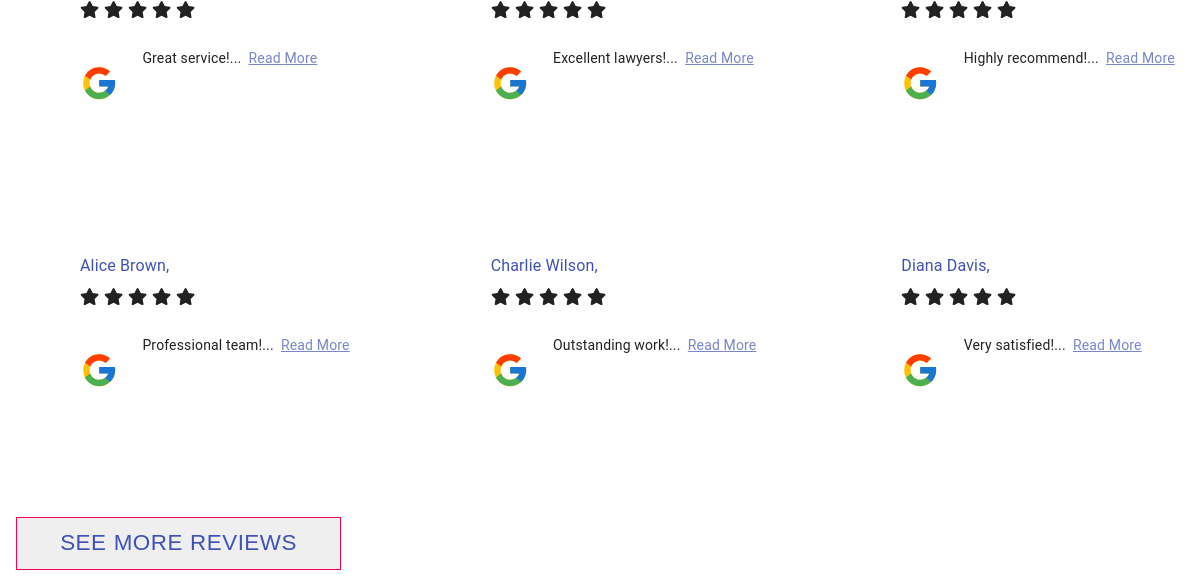
Test: ReviewsSection Component › collapses reviews when 'See Less' is clicked
(page scrolled)
Note: Expand first
Click the button "See More Reviews" at {"x": 179, "y": 544}, box 16,517 -> 341,570
(page scrolled)
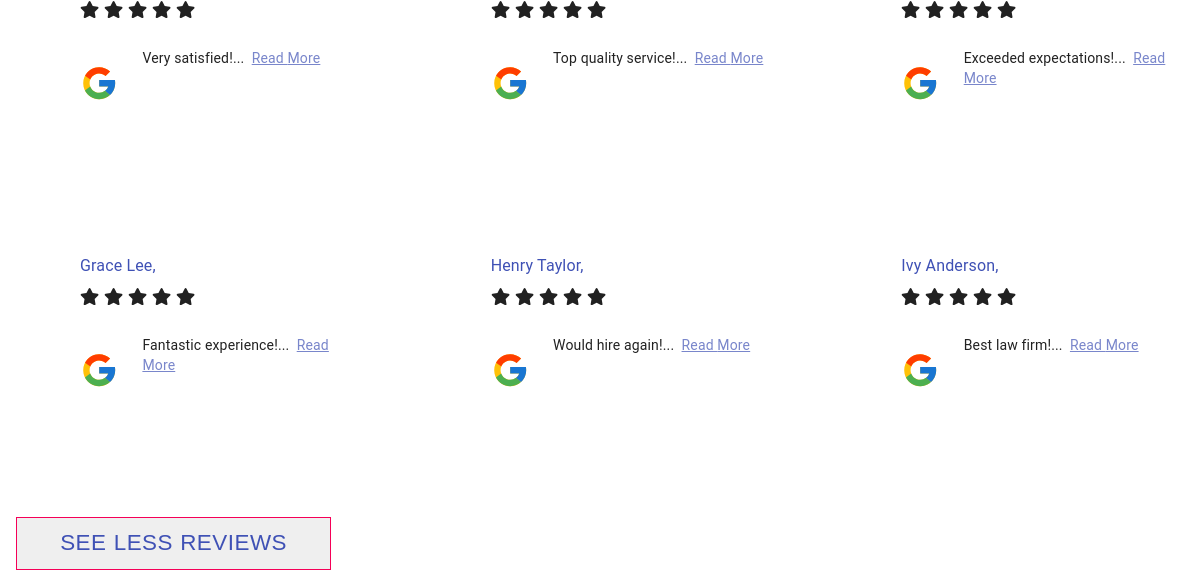
Note: Then collapse
Click the button "See Less Reviews" at {"x": 174, "y": 543}, box 16,517 -> 331,570
(page scrolled)
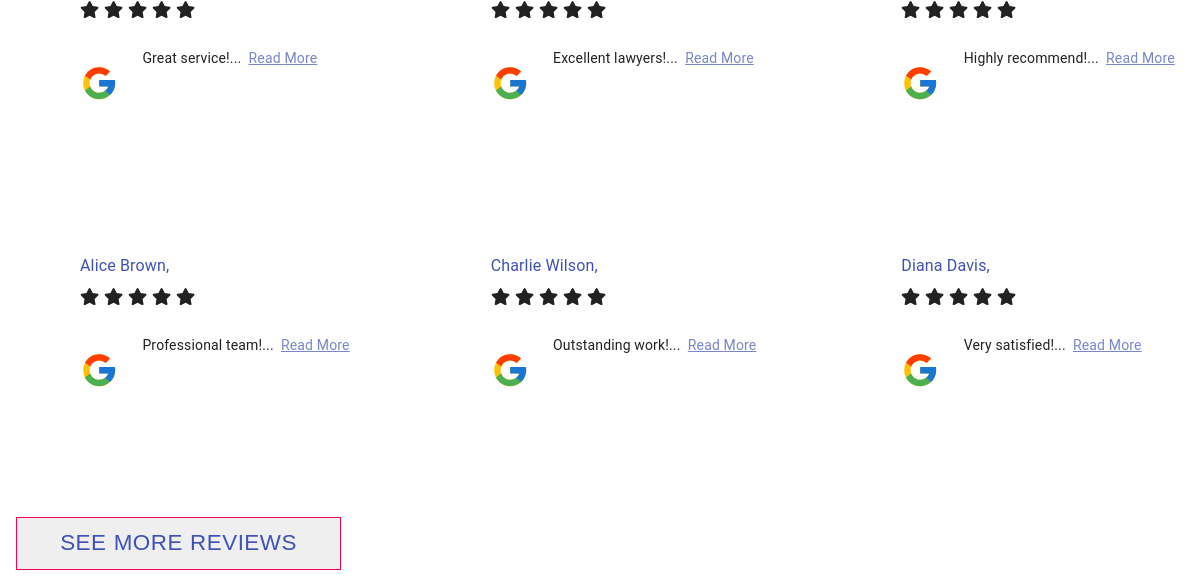
Now the button "See More Reviews" is shown, box 16,517 -> 341,570
